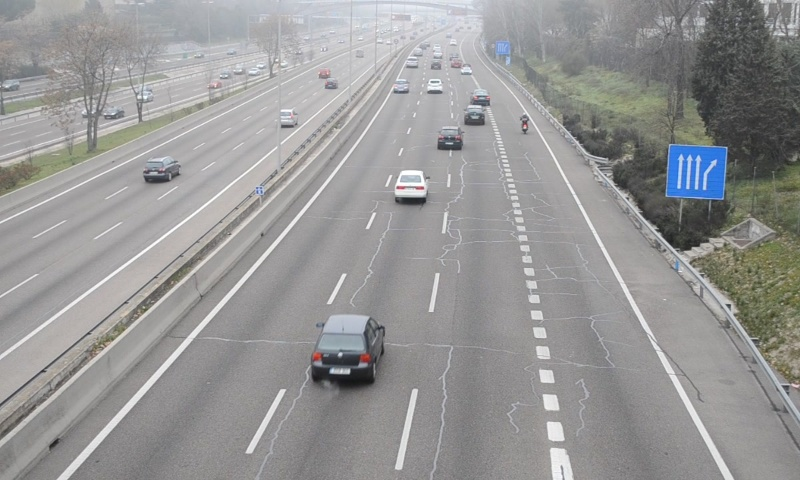car: (310, 315, 386, 377), (395, 169, 430, 199), (437, 126, 464, 150), (464, 104, 485, 126), (470, 88, 492, 105), (426, 78, 444, 94), (392, 78, 409, 93)
motorcycle: (519, 112, 531, 135)
